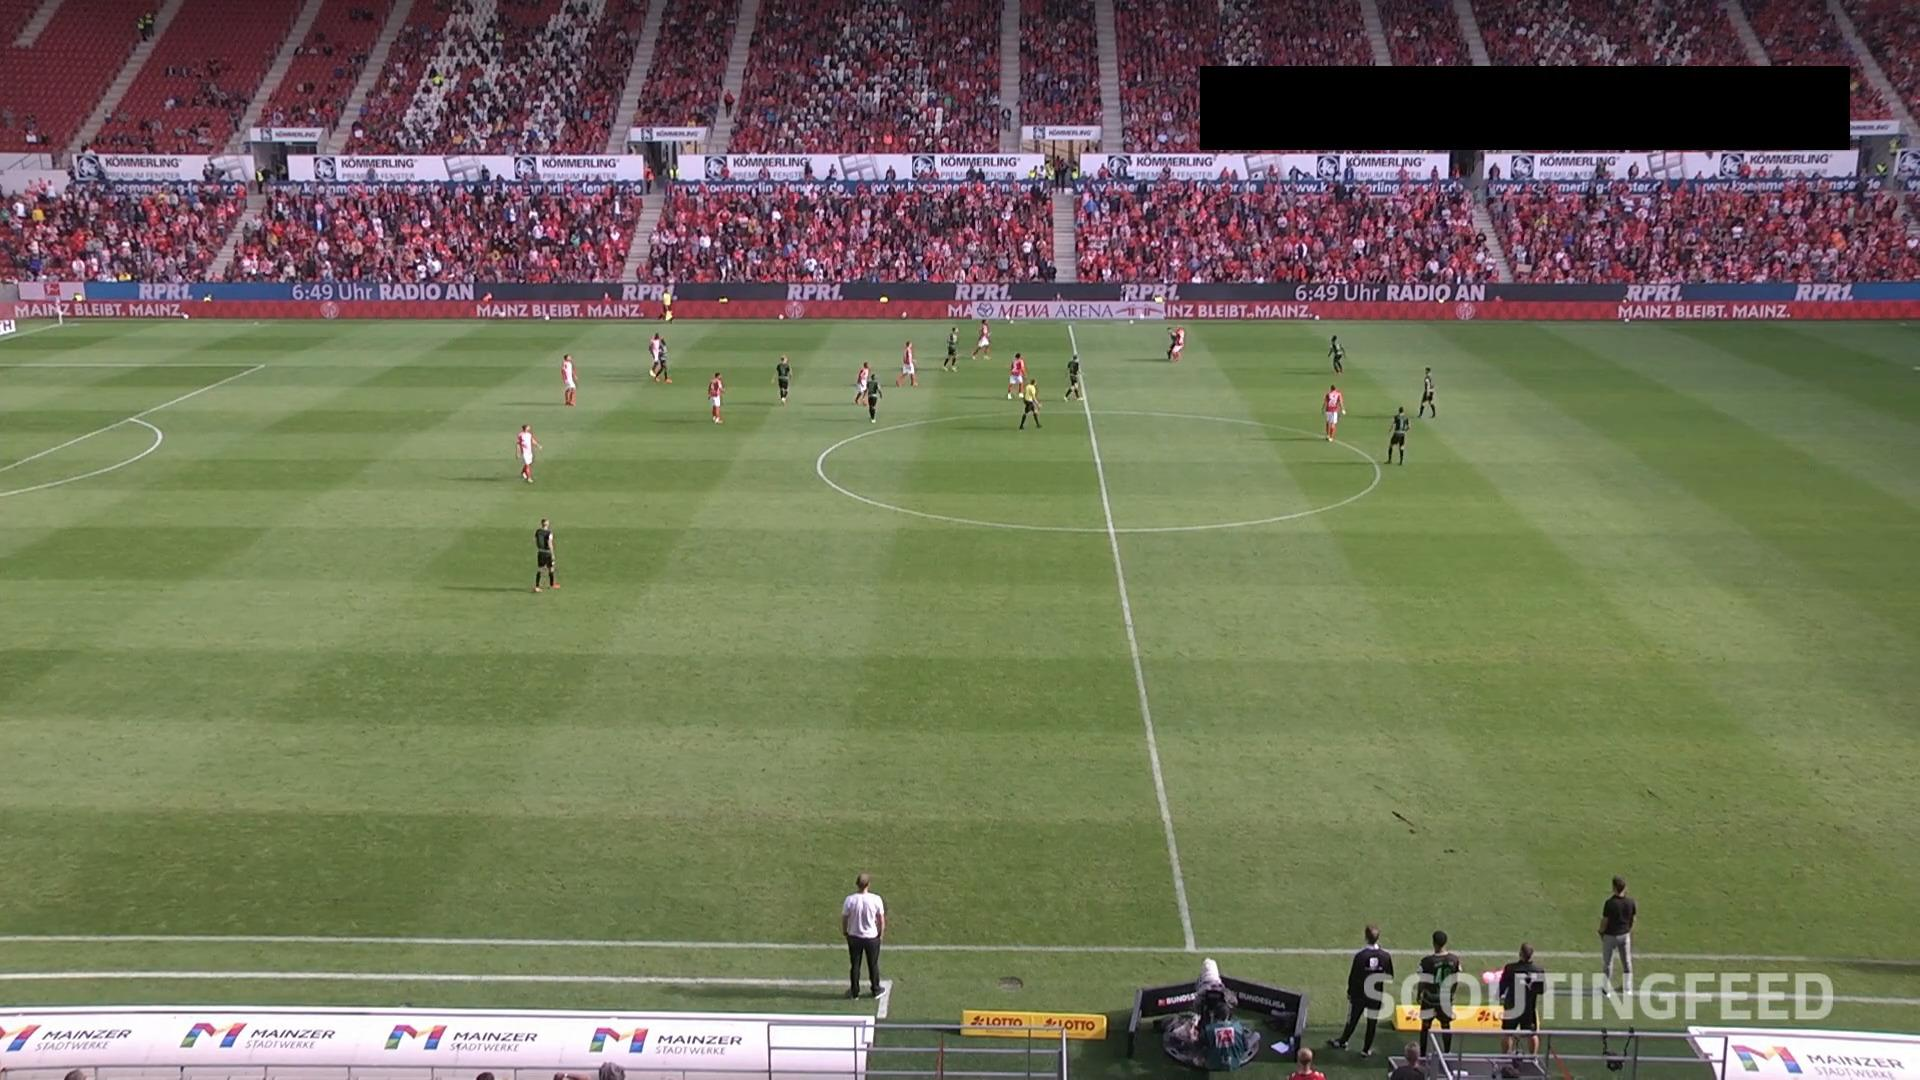player: (535, 517, 561, 594), (1384, 405, 1411, 465), (515, 425, 542, 483), (1322, 386, 1347, 443), (772, 354, 794, 406), (707, 370, 727, 426), (1418, 363, 1438, 419), (1007, 351, 1028, 401), (972, 316, 993, 363), (1063, 354, 1083, 403), (561, 352, 579, 406), (898, 341, 918, 388), (865, 372, 882, 424), (943, 326, 960, 372), (1328, 334, 1347, 374), (854, 362, 871, 405), (656, 338, 671, 382), (648, 332, 662, 378), (1173, 323, 1186, 361), (1165, 325, 1178, 359)
referee: (1019, 377, 1042, 432), (659, 287, 674, 324)
